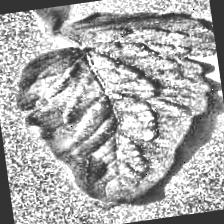spider mites: (4, 0, 224, 220)
